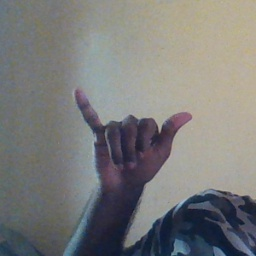J: (69, 84, 194, 192)
